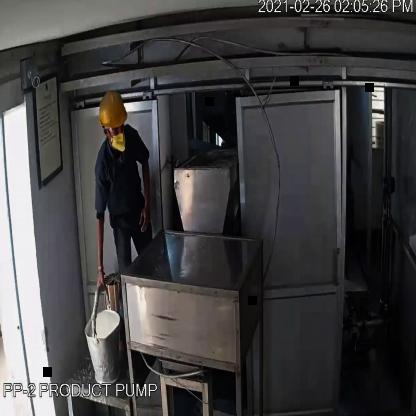helmet: (96, 88, 131, 143)
